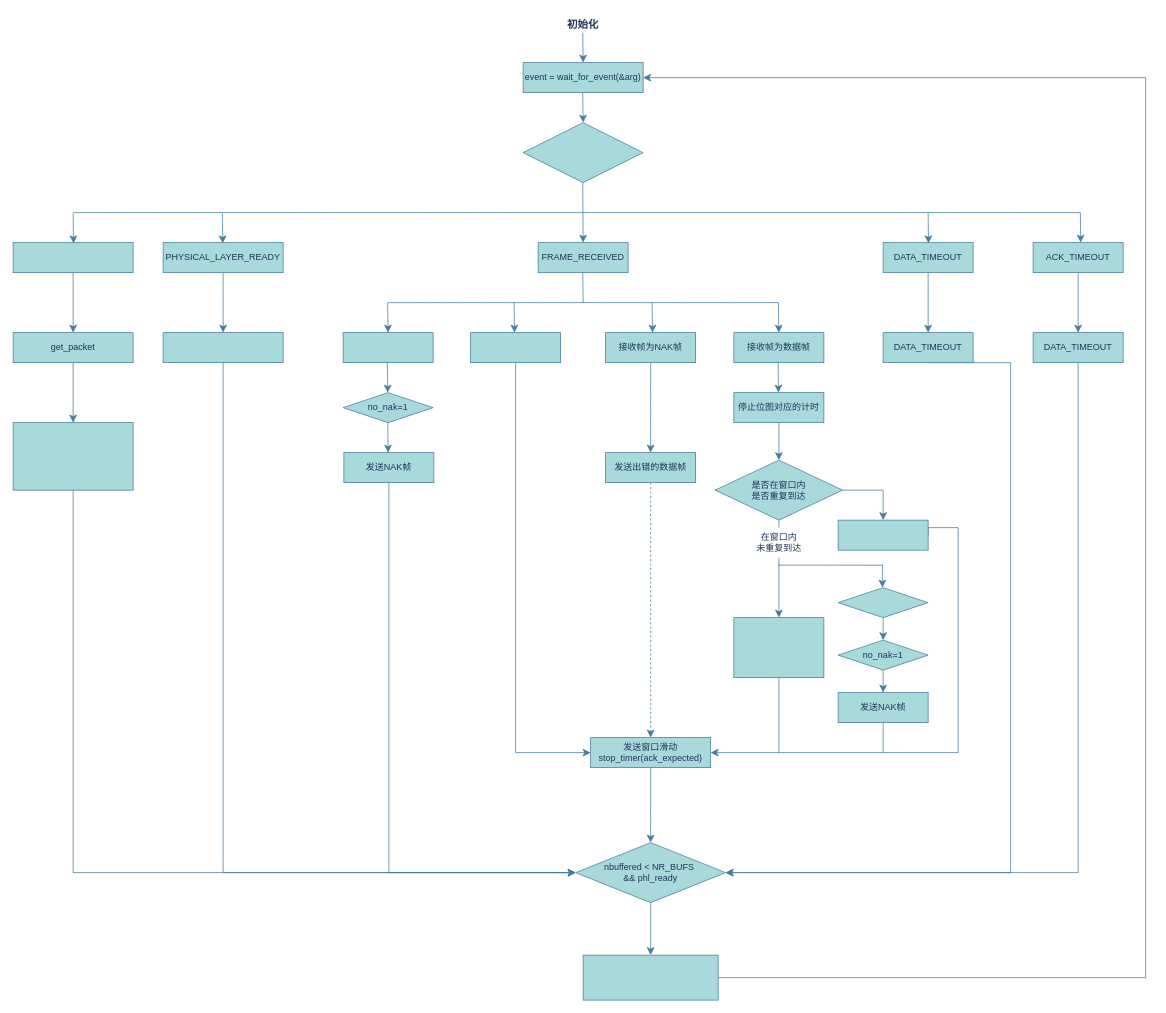
Some shapes in this 1166 by 1013 pixel diagram are drawn without their labels. Each missing label, with the centre of its shape:
"enable/disable_network_layer" goes at (x=650, y=977).
"nbuffered++ 发送数据帧 inc(next_frame_to_send)" goes at (x=72, y=456).
"NETWORK_LAYER_READY" goes at (x=72, y=257).
"phl_ready = 1 标记物理层准备就绪" goes at (x=222, y=347).
"switch (event)" goes at (x=582, y=152).
"丢弃该帧" goes at (x=882, y=534).
"帧长度<6或 crc32校验有误" goes at (x=387, y=347).
"接收帧为ACK帧" goes at (x=515, y=347).
"是否顺序到达" goes at (x=882, y=602).
"标记帧到达 存入接收缓存 发送到网络层 接收窗口移动 开启ACK_TIMER" goes at (x=778, y=647).
